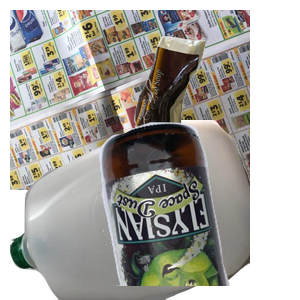glass: (97, 120, 300, 300)
paper: (10, 10, 250, 190)
plastic: (10, 120, 250, 300)
trash: (131, 34, 300, 177)
